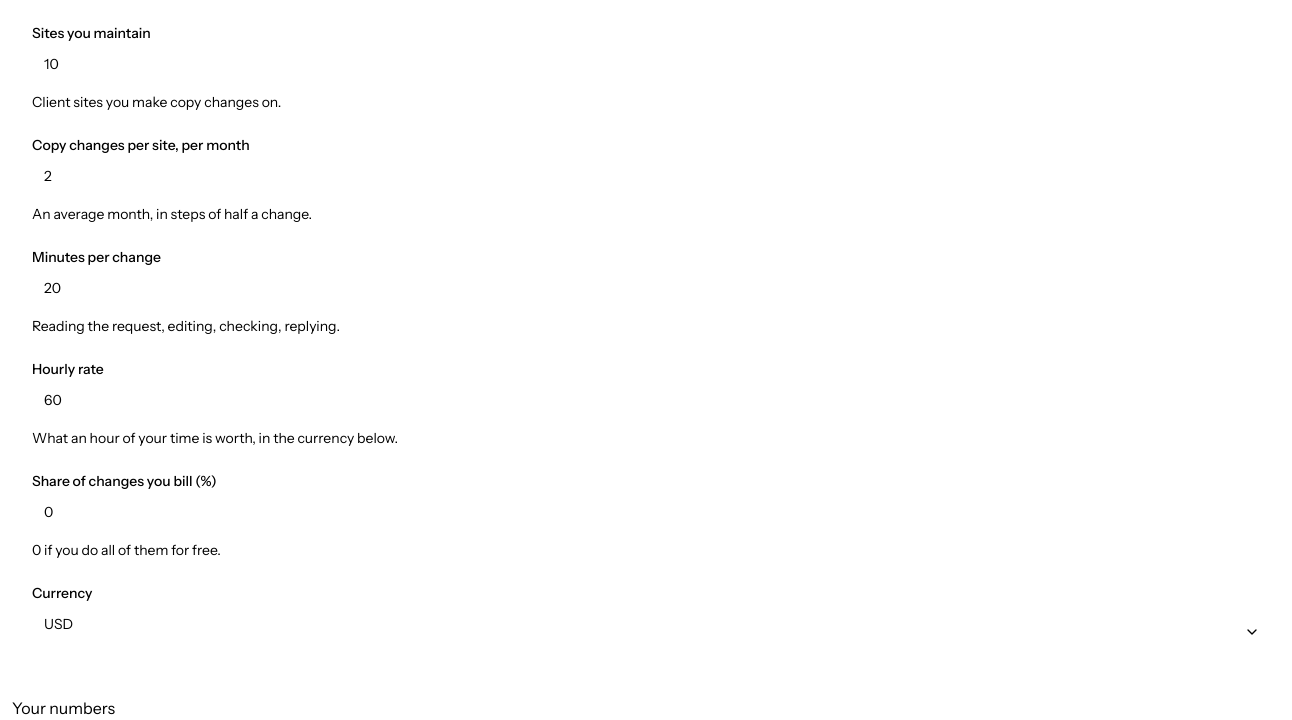
it: CostCalculator › hides the card and its HTML while a field is empty, and restores them
Clear the number field labelled "Minutes per change". click: (652, 288)
box: x1=32 y1=268 x2=1272 y2=308
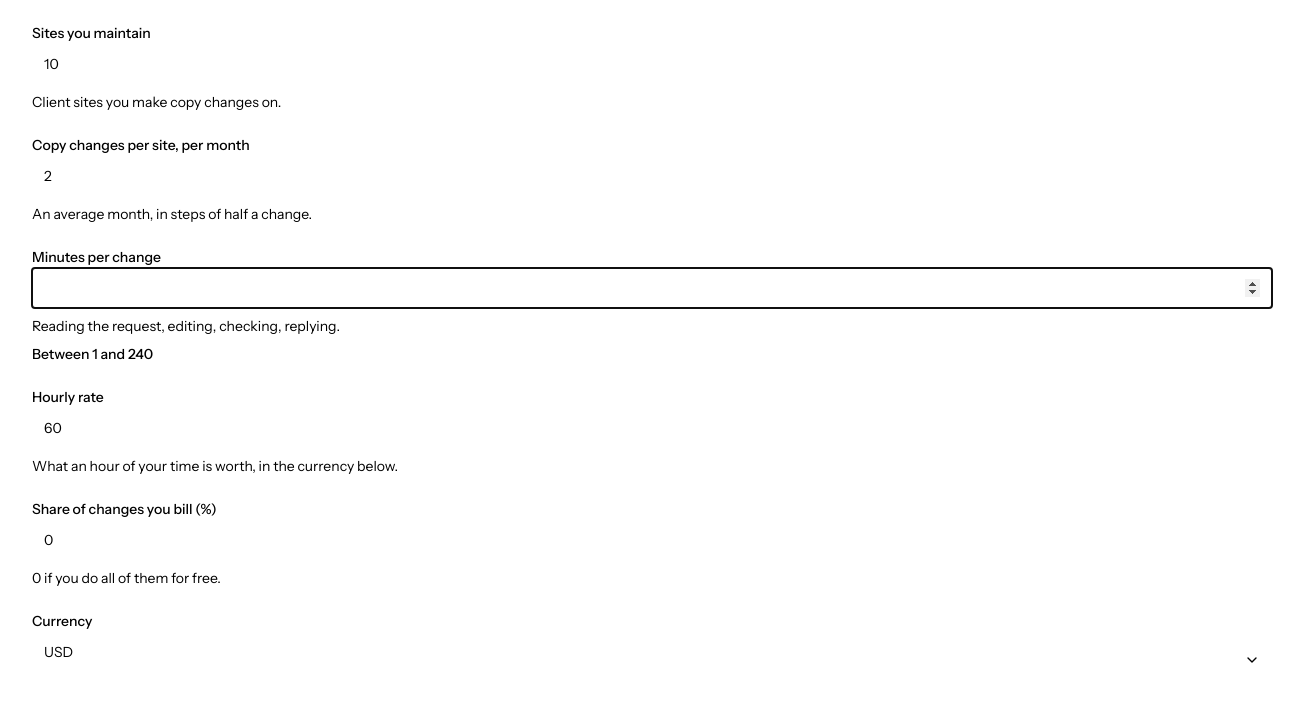
Type "30" into the number field labelled "Minutes per change". click: (652, 288)
box: x1=32 y1=268 x2=1272 y2=308
(page scrolled)
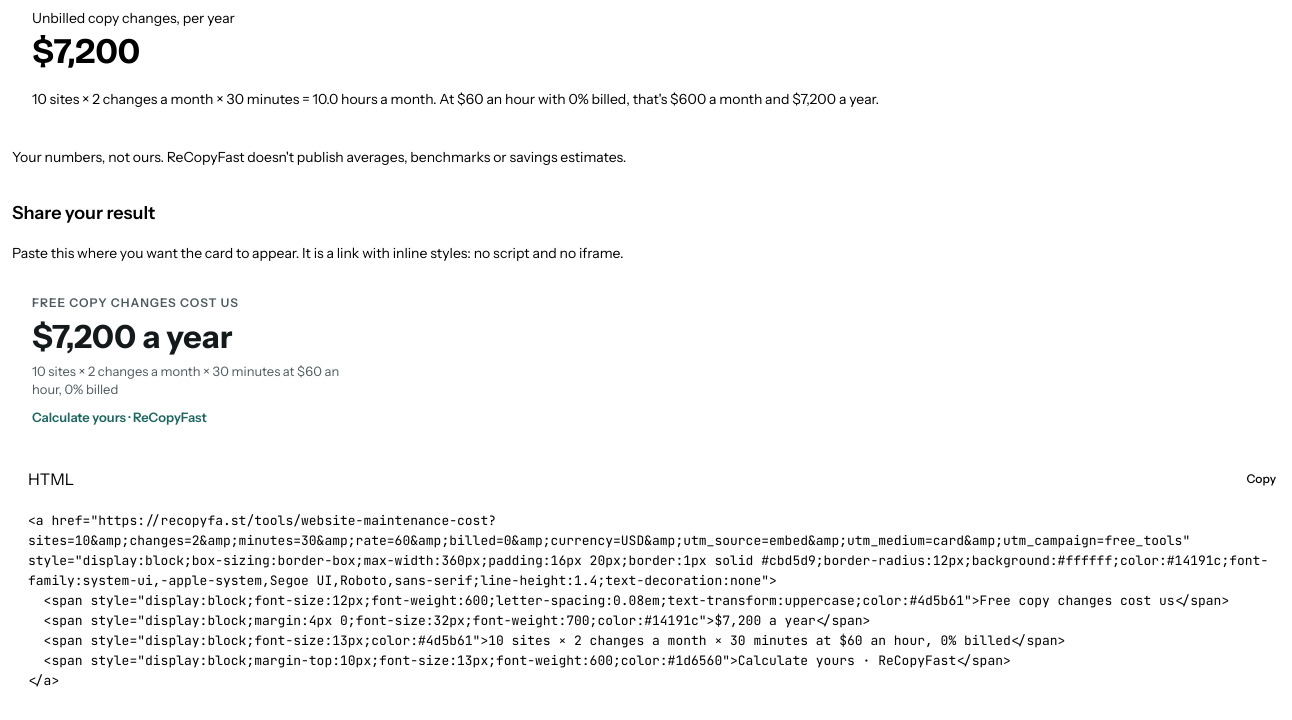
Check: the element named "Card preview" is shown, box x1=12 y1=279 x2=372 y2=443
